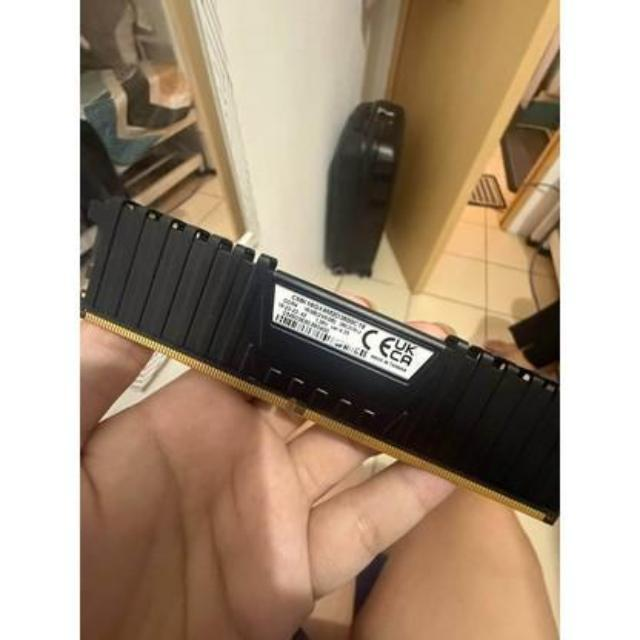RAM: (79, 186, 561, 542)
